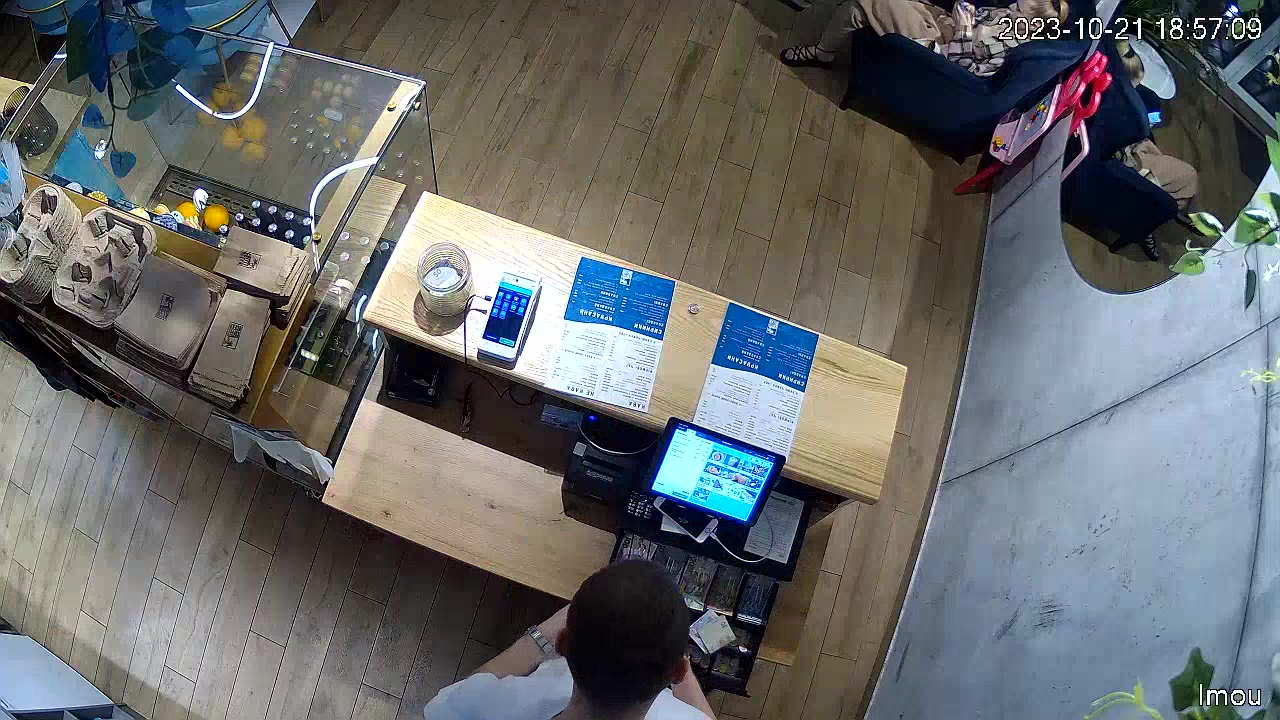openedcash: (602, 520, 781, 694)
